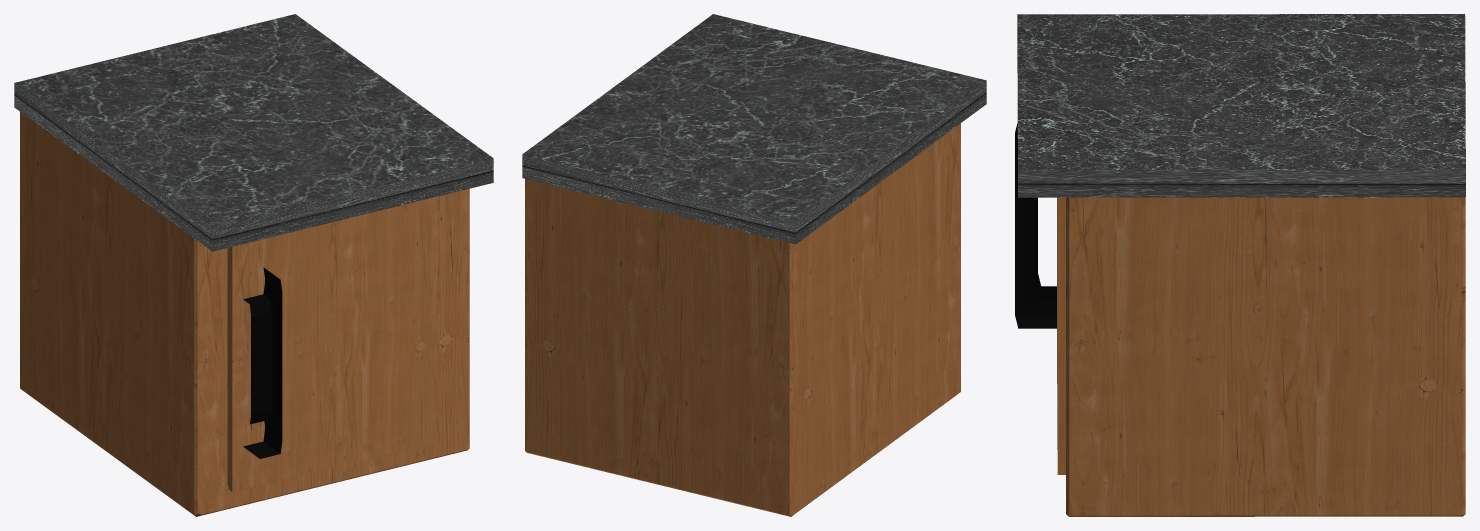
File: YELLOW_INDIVIDUAL_KITCHEN_CABINET.glb
The picture shows the model from 3 angles, left to right: view 1: azimuth 30°, elevation 25°; view 2: azimuth 150°, elevation 25°; view 3: azimuth 270°, elevation 25°; orthographic projection. The views are drawn at different scales.
Visible parts, largest first — view 1: BODY, BAR, DOOR; view 2: BODY, BAR; view 3: BODY, BAR, DOOR.
Part boxes in pixels (x1,y1,x2,y2): BODY: (20, 112, 469, 516); BAR: (14, 14, 493, 251); DOOR: (227, 196, 439, 491); BODY: (525, 123, 960, 516); BAR: (522, 14, 986, 244); BODY: (1066, 197, 1465, 516); BAR: (1017, 14, 1465, 197); DOOR: (1015, 123, 1065, 474).
Size of the model in its own units: 0.7944 by 0.8271 by 0.9691.
Materials: 4 (3 with a texture image).
